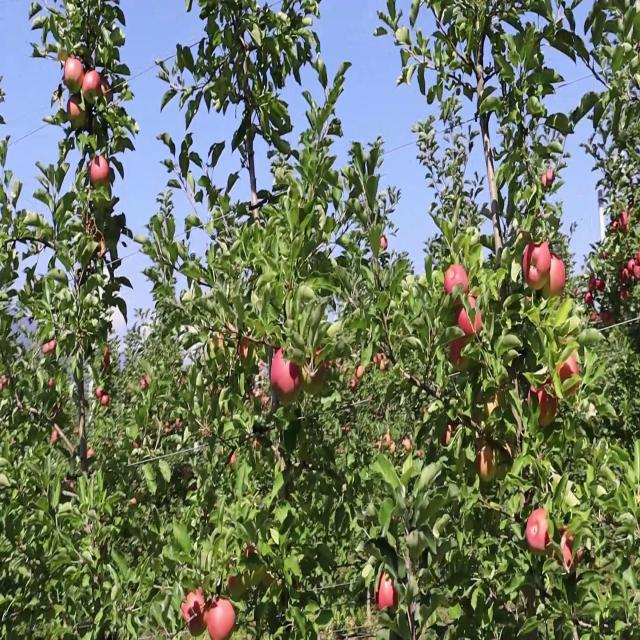apple: (524, 241, 552, 292), (272, 348, 304, 391), (528, 376, 560, 418), (180, 590, 207, 638), (208, 597, 236, 639), (556, 355, 581, 398), (460, 298, 484, 340), (528, 511, 550, 553), (376, 575, 400, 612), (548, 255, 568, 299), (444, 263, 469, 297), (564, 533, 583, 571), (64, 56, 84, 92), (88, 220, 108, 256), (68, 99, 89, 133), (476, 447, 497, 480), (92, 156, 112, 190), (84, 71, 100, 107), (212, 327, 235, 350), (452, 341, 467, 370), (488, 391, 502, 418), (540, 170, 556, 192), (212, 328, 227, 350), (100, 78, 113, 103), (620, 206, 631, 235), (444, 426, 457, 448), (240, 341, 252, 363), (280, 391, 296, 407), (228, 575, 242, 590), (44, 341, 57, 356), (596, 277, 607, 293), (244, 547, 256, 560), (52, 426, 60, 444), (4, 376, 9, 389), (48, 383, 54, 391)
